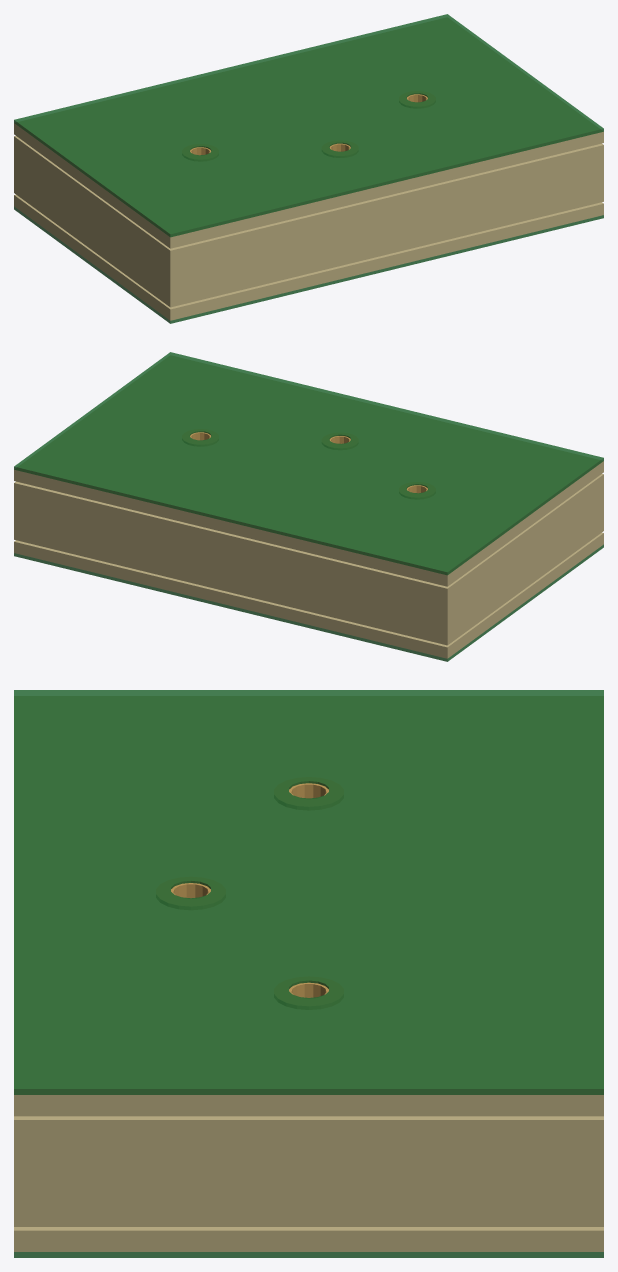
The model's file is stacked-sheets.glb.
The picture shows the model from 3 angles, top to bottom: view 1: azimuth 30°, elevation 25°; view 2: azimuth 150°, elevation 25°; view 3: azimuth 270°, elevation 25°; orthographic projection. The views are drawn at different scales.
Parts seen in each view (by area): view 1: layer/@soldermask-top, layer/CORE, layer/PREPREG_1, layer/PREPREG_2, layer/@soldermask-bottom; view 2: layer/@soldermask-top, layer/CORE, layer/PREPREG_1, layer/PREPREG_2, layer/@soldermask-bottom; view 3: layer/@soldermask-top, layer/CORE, layer/PREPREG_1, layer/PREPREG_2, layer/@soldermask-bottom, layer/DRILL_TOP-BOTTOM.
Part boxes in pixels (left/top/right/bottom): layer/@soldermask-top: left=14, top=14, right=603, bottom=237; layer/CORE: left=14, top=136, right=603, bottom=307; layer/PREPREG_1: left=14, top=19, right=603, bottom=248; layer/PREPREG_2: left=14, top=194, right=603, bottom=320; layer/@soldermask-bottom: left=14, top=206, right=603, bottom=323; layer/@soldermask-top: left=14, top=352, right=603, bottom=575; layer/CORE: left=14, top=474, right=603, bottom=645; layer/PREPREG_1: left=14, top=356, right=603, bottom=586; layer/PREPREG_2: left=14, top=532, right=603, bottom=658; layer/@soldermask-bottom: left=14, top=544, right=603, bottom=661; layer/@soldermask-top: left=14, top=690, right=603, bottom=1094; layer/CORE: left=14, top=1116, right=603, bottom=1226; layer/PREPREG_1: left=14, top=696, right=603, bottom=1116; layer/PREPREG_2: left=14, top=1227, right=603, bottom=1251; layer/@soldermask-bottom: left=14, top=1252, right=603, bottom=1257; layer/DRILL_TOP-BOTTOM: left=289, top=783, right=328, bottom=999.
Bounding box in the file's own units: 0.008 × 0.00158 × 0.005.
